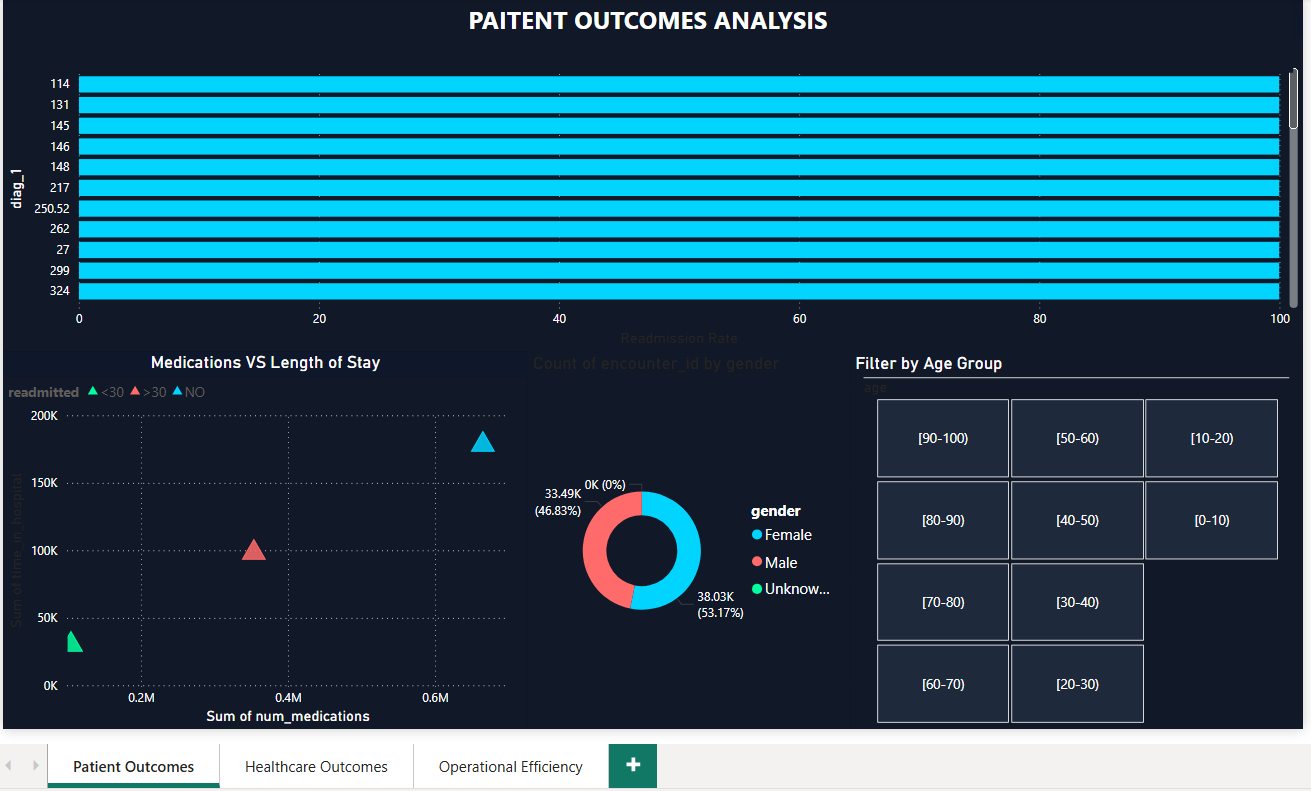

The page's visual inventory and layout, read from the dashboard file:
{"tool":"powerbi","page":{"name":"Patient Outcomes","canvas":[1280,720],"ordinal":0},"visuals":[{"type":"clusteredBarChart","fields":{"Category":["diabetic_cleaned.diag_1"],"Y":["diabetic_cleaned.Readmission Rate"]},"box":[0,36.9,1280,311.4],"z":0},{"type":"scatterChart","title":"Medications VS Length of Stay","fields":{"X":["Sum(diabetic_cleaned.num_medications)"],"Y":["Sum(diabetic_cleaned.time_in_hospital)"],"Series":["diabetic_cleaned.readmitted"]},"box":[0,348.6,516.9,372.2],"z":1000},{"type":"donutChart","fields":{"Category":["diabetic_cleaned.gender"],"Y":["CountNonNull(diabetic_cleaned.encounter_id)"]},"box":[516.9,349.5,317.5,370.5],"z":2000},{"type":"slicer","title":"Filter by Age Group","fields":{"Values":["diabetic_cleaned.age"]},"box":[835,349,445,371],"z":3000},{"type":"textbox","box":[0,0,1270.2,73.8],"z":4000}]}

Visuals, with their boxes on the page's 1280x720 design canvas (x1, y1, x2, y2). These are canvas units, not pixel positions in the 1311x791 screenshot, which may show the page scaled, cropped or inside an application window:
clusteredBarChart - diabetic_cleaned.diag_1 x diabetic_cleaned.Readmission Rate: bbox=[0, 37, 1280, 348]
"Medications VS Length of Stay" scatterChart: bbox=[0, 349, 517, 721]
donutChart - diabetic_cleaned.gender x CountNonNull(diabetic_cleaned.encounter_id): bbox=[517, 350, 834, 720]
"Filter by Age Group" slicer: bbox=[835, 349, 1280, 720]
textbox: bbox=[0, 0, 1270, 74]
